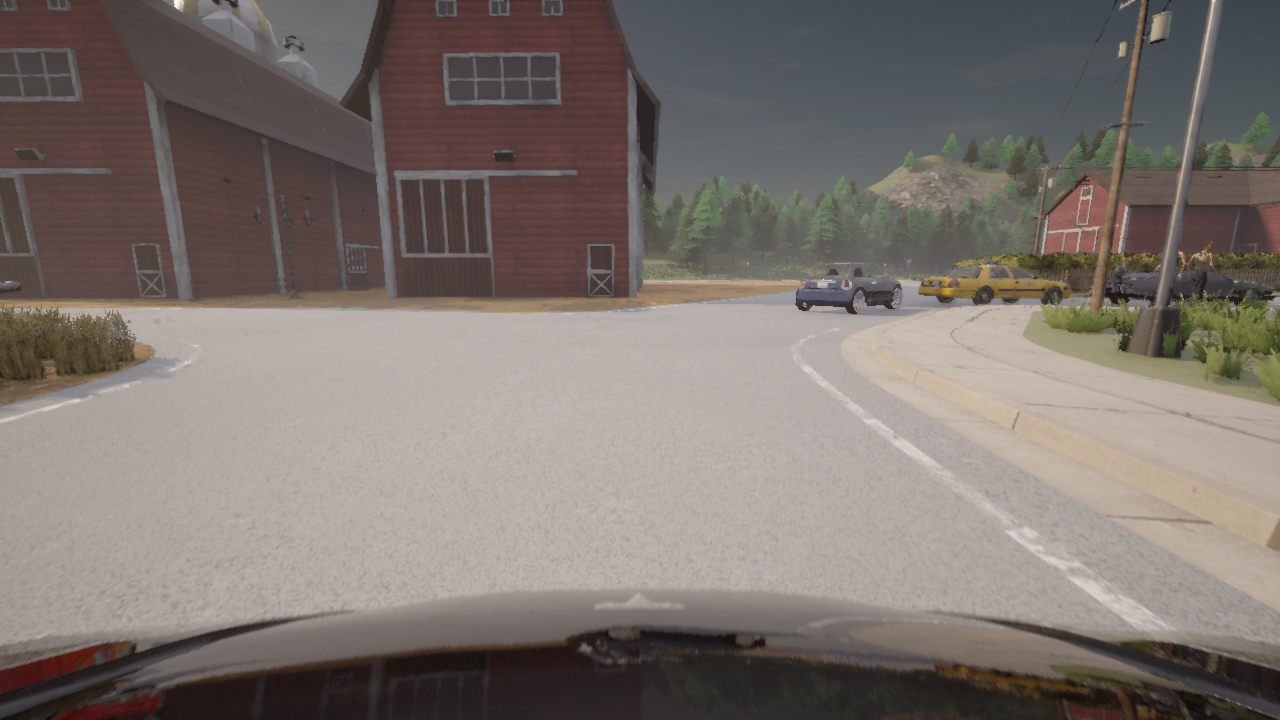cyclist: (0, 588, 1279, 719), (1088, 268, 1275, 305), (919, 261, 1072, 304), (794, 263, 903, 314)
pedestrian: (1149, 240, 1186, 305), (1187, 240, 1218, 306), (1115, 260, 1128, 277)
